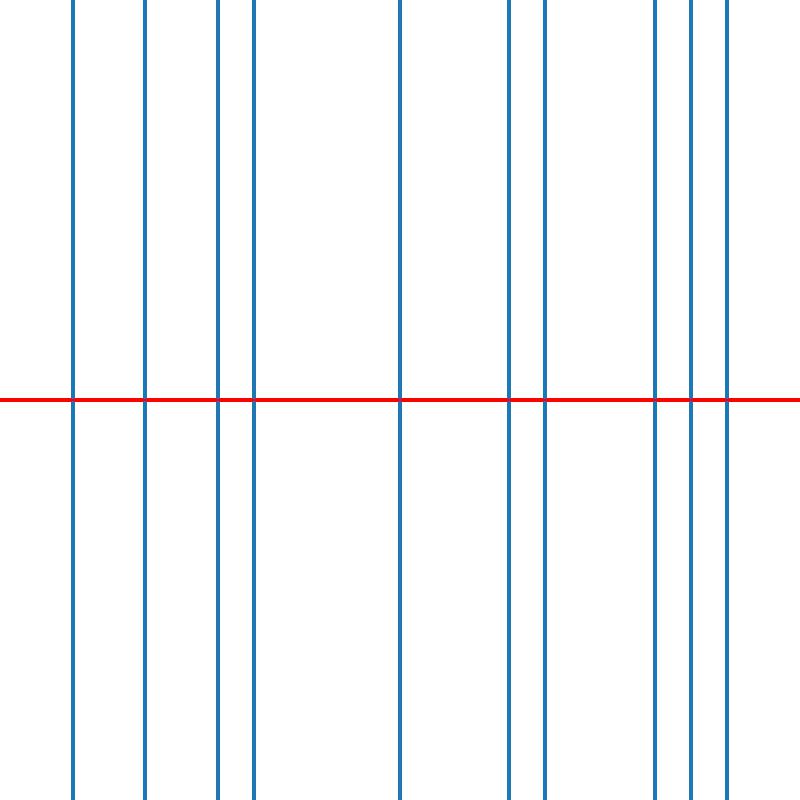root: (650, 396, 658, 404), (250, 396, 258, 404), (141, 396, 149, 404), (541, 396, 549, 404), (505, 396, 512, 404), (396, 396, 403, 404), (69, 396, 76, 404), (687, 396, 694, 404), (723, 396, 730, 404), (214, 396, 221, 404)
